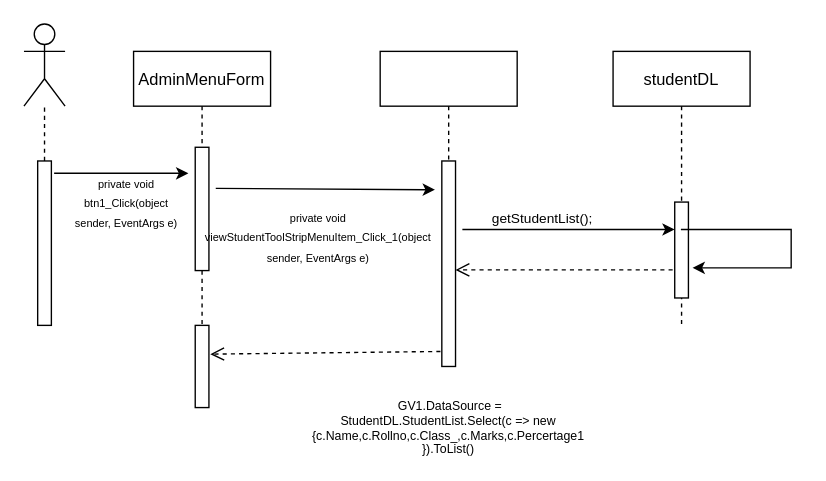
Some shapes in this 826 by 481 pixel diagram are drawn without their labels. The shapes that lost their labels are listed below. From the top down, each one's box as (x1, y1, x2, y2) in pixels, then its label:
(23, 23, 65, 106): Actor
(379, 50, 517, 366): ViewAllStudents
